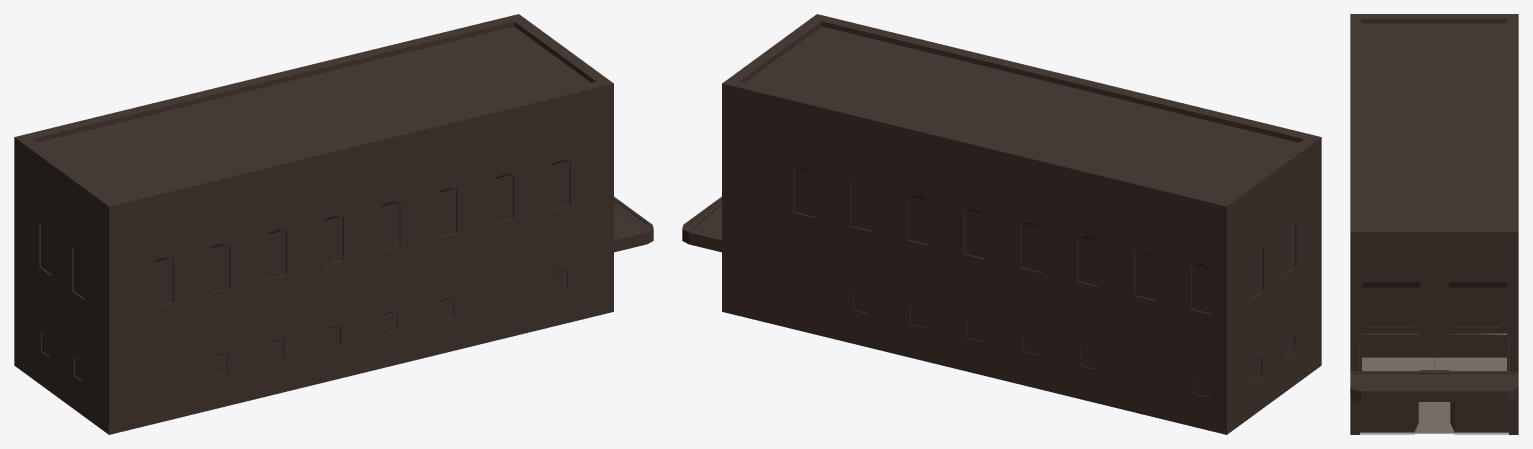
File: brick-shop.access-v2.lod2.glb
3 views of the same model, side by side, from view 1: azimuth 30°, elevation 25°; view 2: azimuth 150°, elevation 25°; view 3: azimuth 270°, elevation 25° (orthographic). The views are drawn at different scales.
Parts seen in each view (by area): view 1: Object_4; view 2: Object_4; view 3: Object_4.
Part boxes in pixels (x1,y1,x2,y2): Object_4: (14, 14, 653, 434); Object_4: (682, 14, 1321, 434); Object_4: (1350, 14, 1518, 434).
Bounding box in the file's own units: 24.23 × 9.61 × 7.24.
